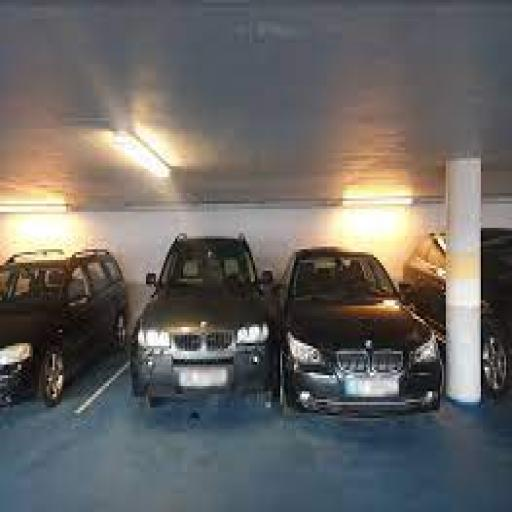Illegal-parking: (136, 170, 292, 442)
